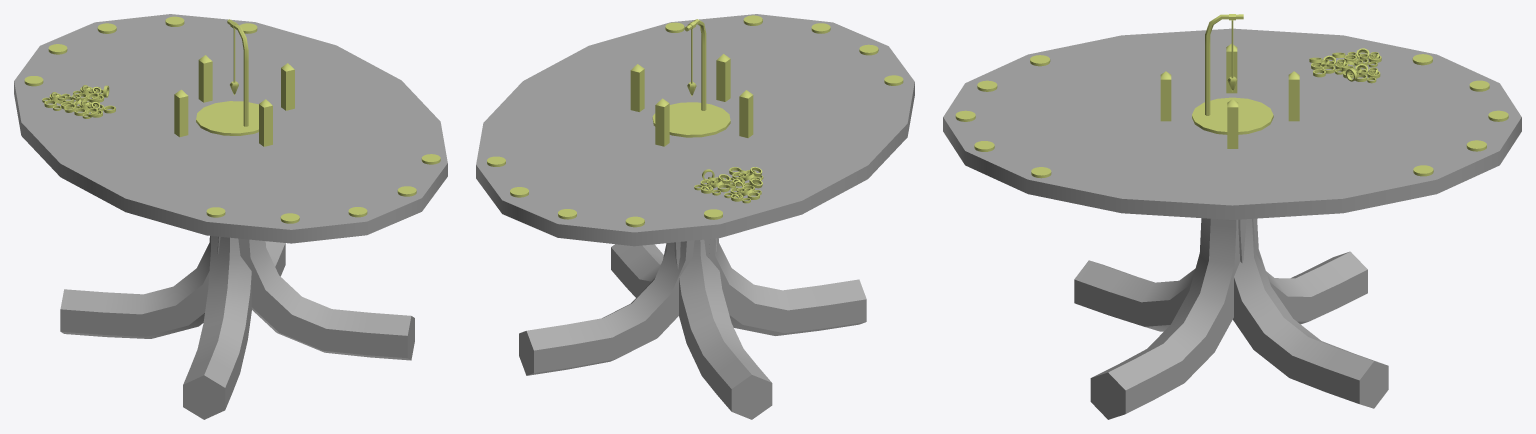
Rendered from mesa2Invo.fbx.
3 views of the same model, side by side, from view 1: azimuth 30°, elevation 25°; view 2: azimuth 150°, elevation 25°; view 3: azimuth 270°, elevation 25° (orthographic). The views are drawn at different scales.
Visible parts, largest first — view 1: pCylinder305, polySurface4883, pCylinder306, polySurface4885, polySurface4884, pCylinder308, pCylinder310, pCylinder309, pCylinder311; view 2: pCylinder305, polySurface4883, pCylinder306, polySurface4885, polySurface4884, pCylinder311, pCylinder309, pCylinder308, pCylinder310; view 3: pCylinder305, polySurface4883, pCylinder306, polySurface4884, polySurface4885, pCylinder308, pCylinder311, pCylinder309.
Part boxes in pixels (x1,y1,x2,y2): pCylinder305: (14, 14, 447, 243); polySurface4883: (60, 236, 414, 419); pCylinder306: (196, 19, 258, 135); polySurface4885: (206, 154, 440, 223); polySurface4884: (24, 16, 257, 86); pCylinder308: (198, 55, 212, 102); pCylinder310: (174, 89, 188, 137); pCylinder309: (281, 63, 294, 110); pCylinder311: (259, 99, 272, 146); pCylinder305: (476, 14, 914, 246); polySurface4883: (519, 238, 866, 419); pCylinder306: (652, 19, 730, 137); polySurface4885: (665, 15, 903, 85); polySurface4884: (487, 156, 722, 227); pCylinder311: (716, 54, 730, 101); pCylinder309: (630, 64, 644, 111); pCylinder308: (655, 98, 669, 146); pCylinder310: (739, 90, 753, 137); pCylinder305: (943, 28, 1521, 219); polySurface4883: (1074, 218, 1388, 419); pCylinder306: (1192, 14, 1273, 134); polySurface4884: (1412, 54, 1508, 176); polySurface4885: (955, 55, 1051, 178); pCylinder308: (1288, 71, 1299, 121); pCylinder311: (1160, 71, 1171, 121); pCylinder309: (1227, 99, 1238, 148).
Size of the model in its own units: 181 by 164 by 250.
